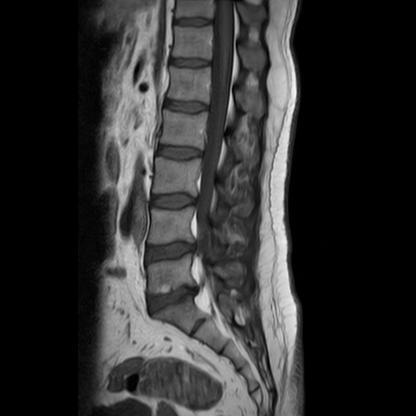Disc Bulgerotation: (139, 238, 202, 270), (142, 284, 205, 311)
